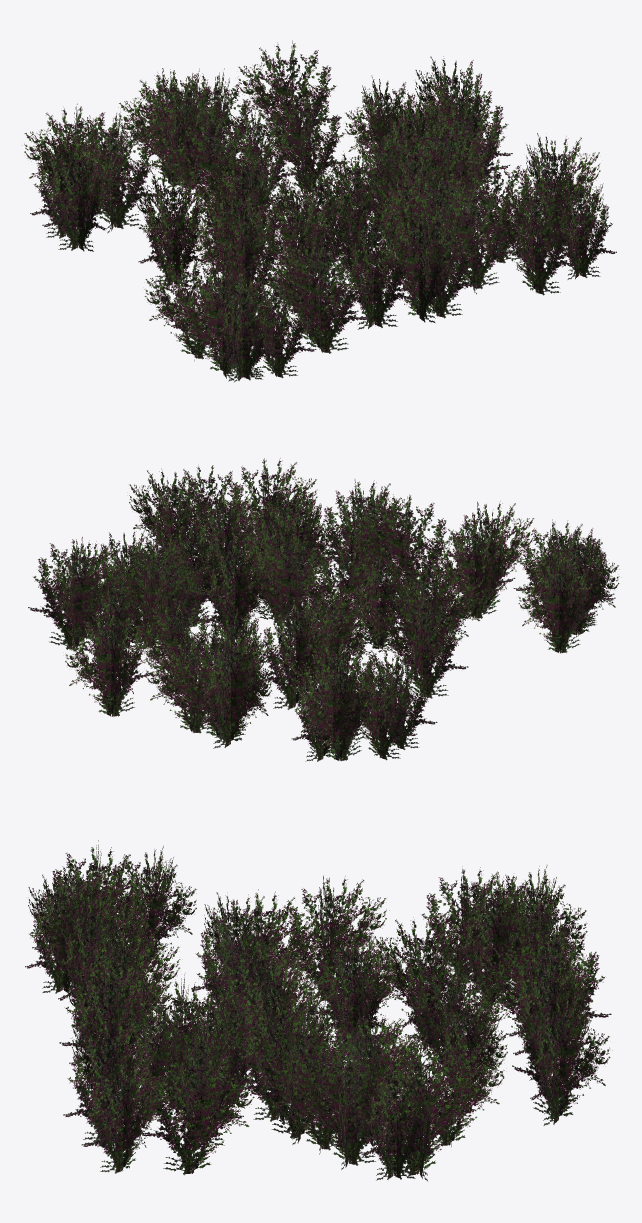
The model's file is plant_shrub.glb.
3 renders of one model, top to bottom at view 1: azimuth 30°, elevation 25°; view 2: azimuth 150°, elevation 25°; view 3: azimuth 270°, elevation 25°, orthographic. The views are drawn at different scales.
Visible parts, largest first — view 1: red-baron-grass-ornamental-Va7qqJC-600.001_red-baron-grass-o, red-baron-grass-ornamental-Va7qqJC-600_red-baron-grass-ornam; view 2: red-baron-grass-ornamental-Va7qqJC-600_red-baron-grass-ornam, red-baron-grass-ornamental-Va7qqJC-600.001_red-baron-grass-o; view 3: red-baron-grass-ornamental-Va7qqJC-600_red-baron-grass-ornam, red-baron-grass-ornamental-Va7qqJC-600.001_red-baron-grass-o.
Boxes of the visible parts, box(x1,y1,x2,y2) form: red-baron-grass-ornamental-Va7qqJC-600.001_red-baron-grass-o: box(24, 42, 616, 380); red-baron-grass-ornamental-Va7qqJC-600_red-baron-grass-ornam: box(30, 40, 603, 382); red-baron-grass-ornamental-Va7qqJC-600_red-baron-grass-ornam: box(61, 458, 615, 761); red-baron-grass-ornamental-Va7qqJC-600.001_red-baron-grass-o: box(28, 458, 619, 761); red-baron-grass-ornamental-Va7qqJC-600_red-baron-grass-ornam: box(25, 847, 612, 1180); red-baron-grass-ornamental-Va7qqJC-600.001_red-baron-grass-o: box(28, 840, 611, 1181).
Bounding box in the file's own units: 4.91 × 1.17 × 4.82.
Materials: 1 (1 with a texture image).
